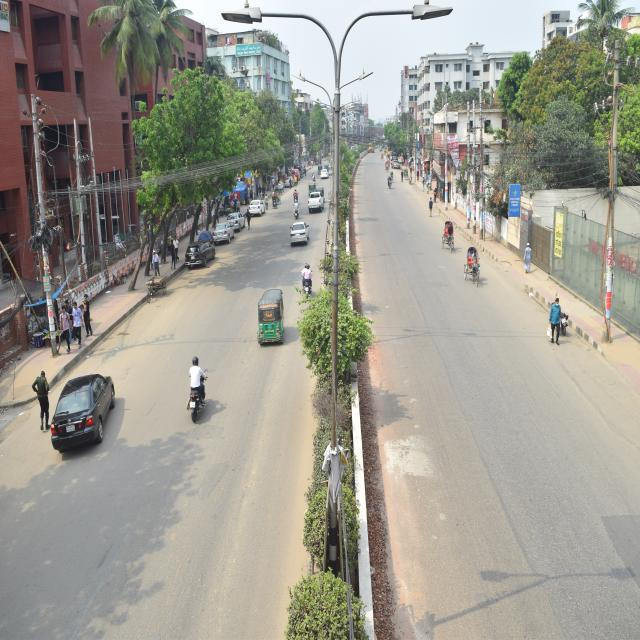car: (53, 375, 118, 444), (186, 230, 215, 278), (286, 213, 305, 252), (210, 216, 230, 248), (231, 206, 247, 245), (310, 189, 322, 213)
motorbike: (184, 351, 207, 413), (301, 262, 315, 294)
